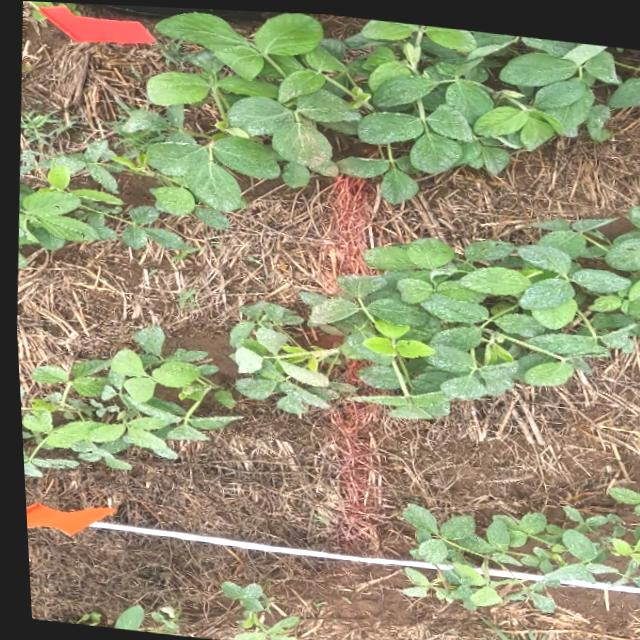grassy_weed: (18, 111, 71, 156), (476, 615, 540, 640)
soy_plant: (116, 10, 640, 225), (225, 202, 640, 415), (16, 326, 228, 476), (396, 480, 640, 607), (15, 141, 143, 249), (117, 205, 181, 248), (226, 608, 291, 640), (106, 603, 172, 633), (213, 579, 256, 607), (31, 1, 79, 13), (30, 8, 45, 21)
